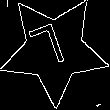L_S: (32, 21, 77, 79)
